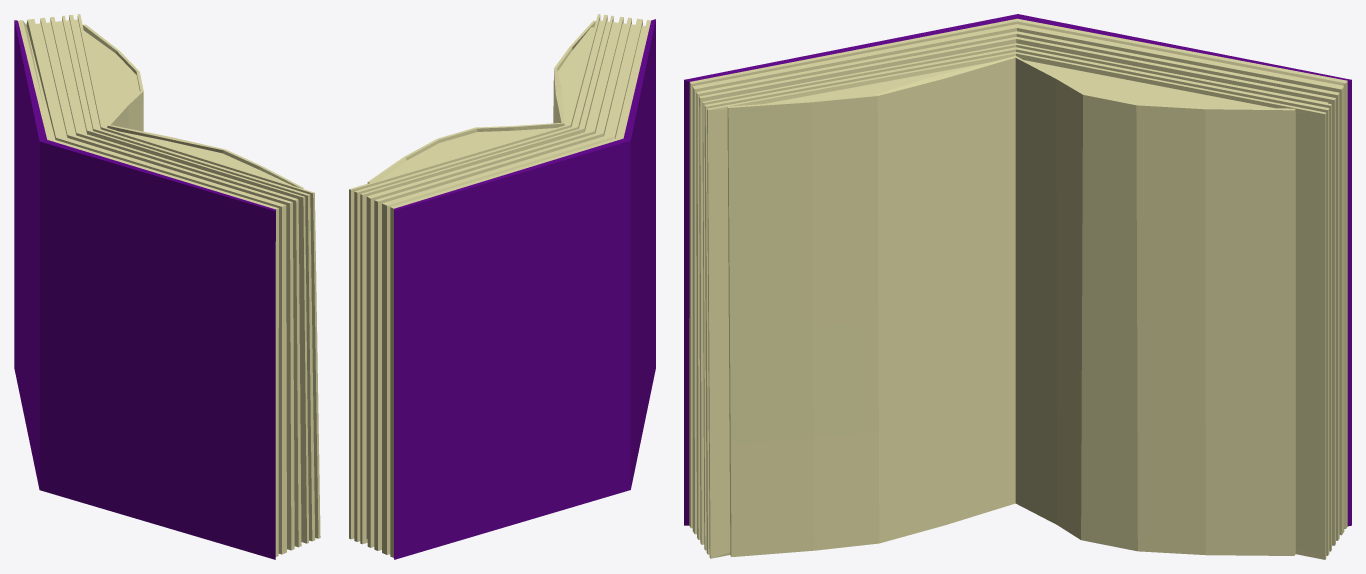
The model's file is S_Weapon_MagicBook.fbx.
3 renders of one model, left to right at view 1: azimuth 30°, elevation 25°; view 2: azimuth 150°, elevation 25°; view 3: azimuth 270°, elevation 25°, orthographic. The views are drawn at different scales.
Visible parts, largest first — view 1: Papier; view 2: Papier; view 3: Papier.
Part boxes in pixels (x1,y1,x2,y2): Papier: (14,14,320,559); Papier: (349,14,655,559); Papier: (684,14,1351,559).
Bounding box in the file's own units: 43.34 × 15.43 × 31.99.
